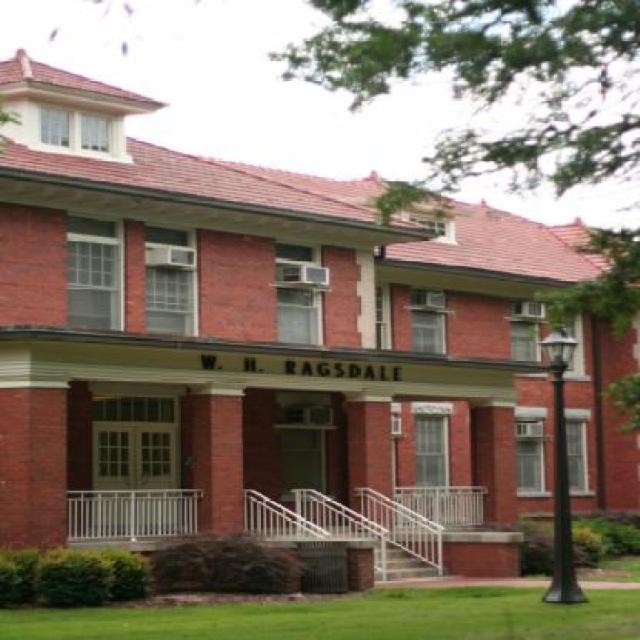stair: (314, 532, 464, 583)
